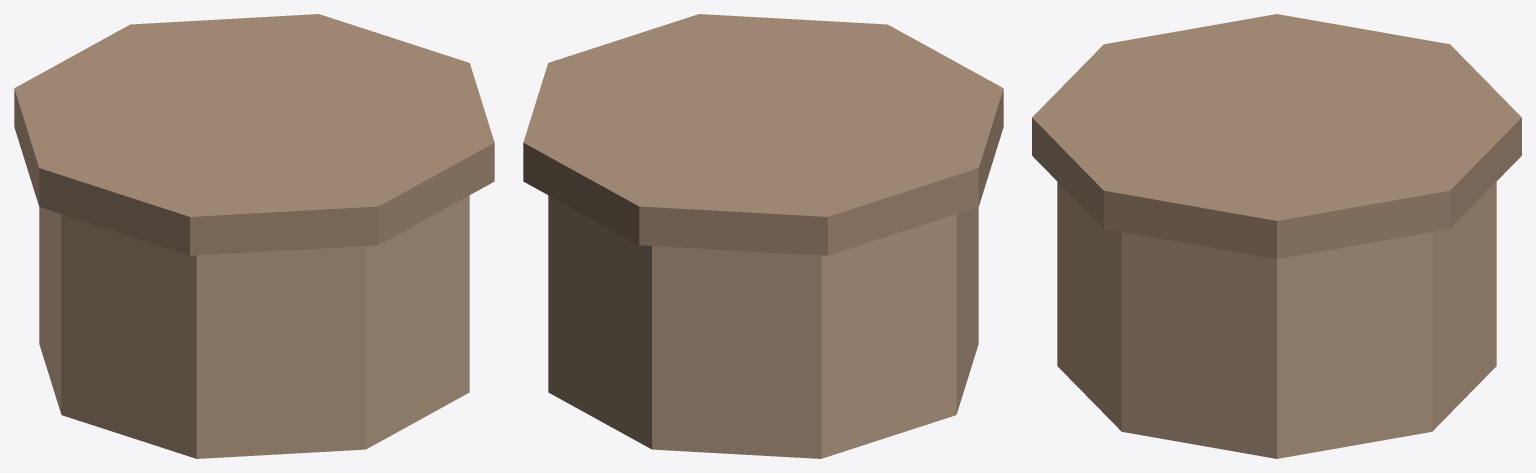
The model's file is basket.glb.
3 renders of one model, left to right at view 1: azimuth 30°, elevation 25°; view 2: azimuth 150°, elevation 25°; view 3: azimuth 270°, elevation 25°, orthographic.
Parts seen in each view (by area): view 1: root_m1, root_m0; view 2: root_m1, root_m0; view 3: root_m1, root_m0.
Boxes of the visible parts, x1=… form: root_m1: x1=14, y1=14, x2=494, y2=255; root_m0: x1=39, y1=195, x2=469, y2=458; root_m1: x1=523, y1=14, x2=1003, y2=255; root_m0: x1=548, y1=195, x2=978, y2=458; root_m1: x1=1032, y1=14, x2=1521, y2=258; root_m0: x1=1057, y1=182, x2=1496, y2=458.
Bounding box in the file's own units: 0.522 × 0.2925 × 0.522.
